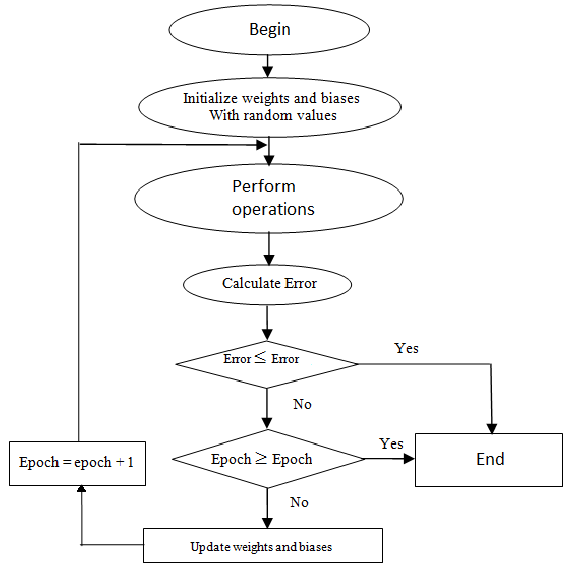arrow: (73, 138, 268, 442), (354, 360, 499, 437), (74, 482, 144, 548), (260, 383, 275, 432), (261, 486, 276, 528), (360, 454, 414, 465), (260, 303, 275, 341), (261, 230, 276, 266), (260, 53, 276, 79), (263, 134, 276, 166)
decision: (170, 426, 366, 490), (174, 338, 360, 391)
process: (141, 525, 386, 565), (412, 429, 566, 490), (6, 439, 149, 488)
terminator: (130, 162, 406, 235), (136, 75, 405, 141), (166, 2, 372, 58), (180, 263, 354, 307)
text: (180, 89, 361, 121), (230, 177, 314, 219), (190, 540, 334, 557), (18, 455, 135, 471), (210, 451, 315, 468), (220, 274, 319, 291), (223, 352, 301, 366), (249, 19, 292, 40), (474, 450, 508, 468), (374, 435, 406, 453), (392, 340, 420, 356), (290, 395, 312, 413), (290, 495, 311, 509)
